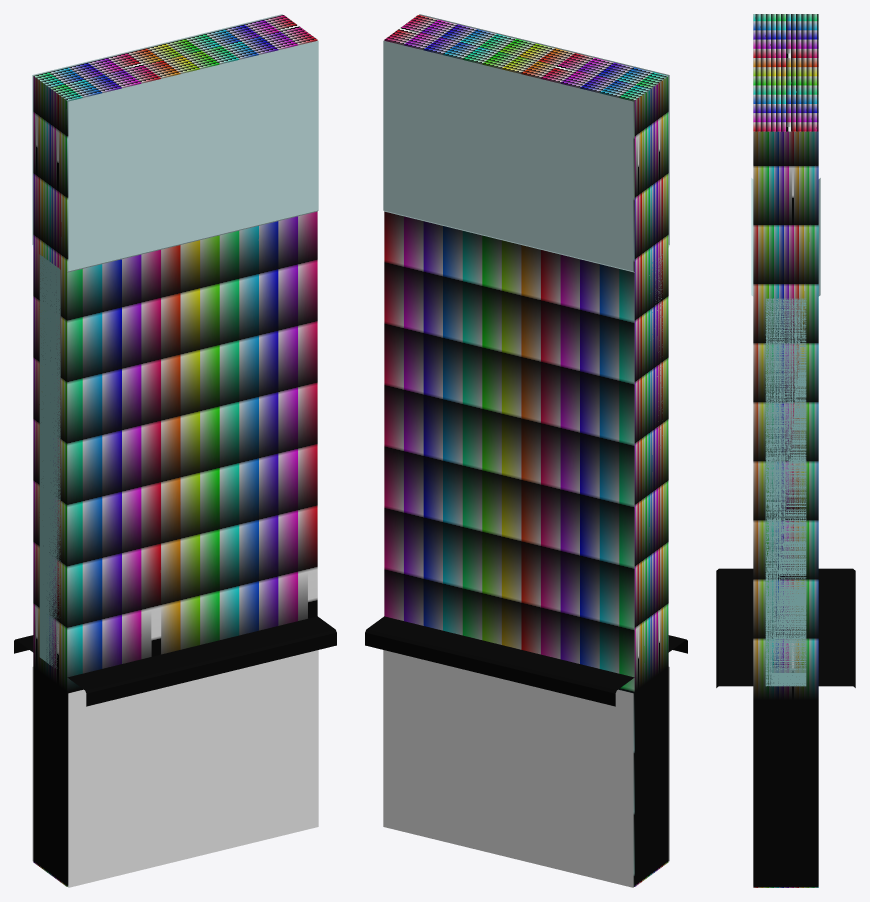
File: windowWall_geDuan_1.fbx
3 renders of one model, left to right at view 1: azimuth 30°, elevation 25°; view 2: azimuth 150°, elevation 25°; view 3: azimuth 270°, elevation 25°, orthographic. The views are drawn at different scales.
Visible parts, largest first — view 1: trigger, windowWall_geDuan_1; view 2: trigger, windowWall_geDuan_1; view 3: trigger, windowWall_geDuan_1.
Part boxes in pixels (left/top/right/bottom): trigger: left=33, top=15, right=317, bottom=886; windowWall_geDuan_1: left=14, top=14, right=336, bottom=887; trigger: left=384, top=15, right=668, bottom=886; windowWall_geDuan_1: left=365, top=14, right=687, bottom=887; trigger: left=753, top=14, right=818, bottom=887; windowWall_geDuan_1: left=716, top=178, right=855, bottom=687.
Size of what is drawn, in the model's own units: 100 by 300 by 50.
2 materials, 2 textured.
